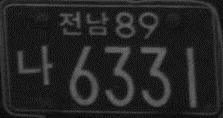1: (184, 44, 199, 111)
3: (139, 43, 172, 108), (103, 44, 135, 107)
6: (68, 43, 99, 106)
8: (115, 11, 135, 38)
9: (138, 10, 160, 40)
나: (16, 42, 52, 86)
전남_O: (60, 10, 109, 36)
